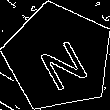N_NW: (28, 25, 89, 89)
